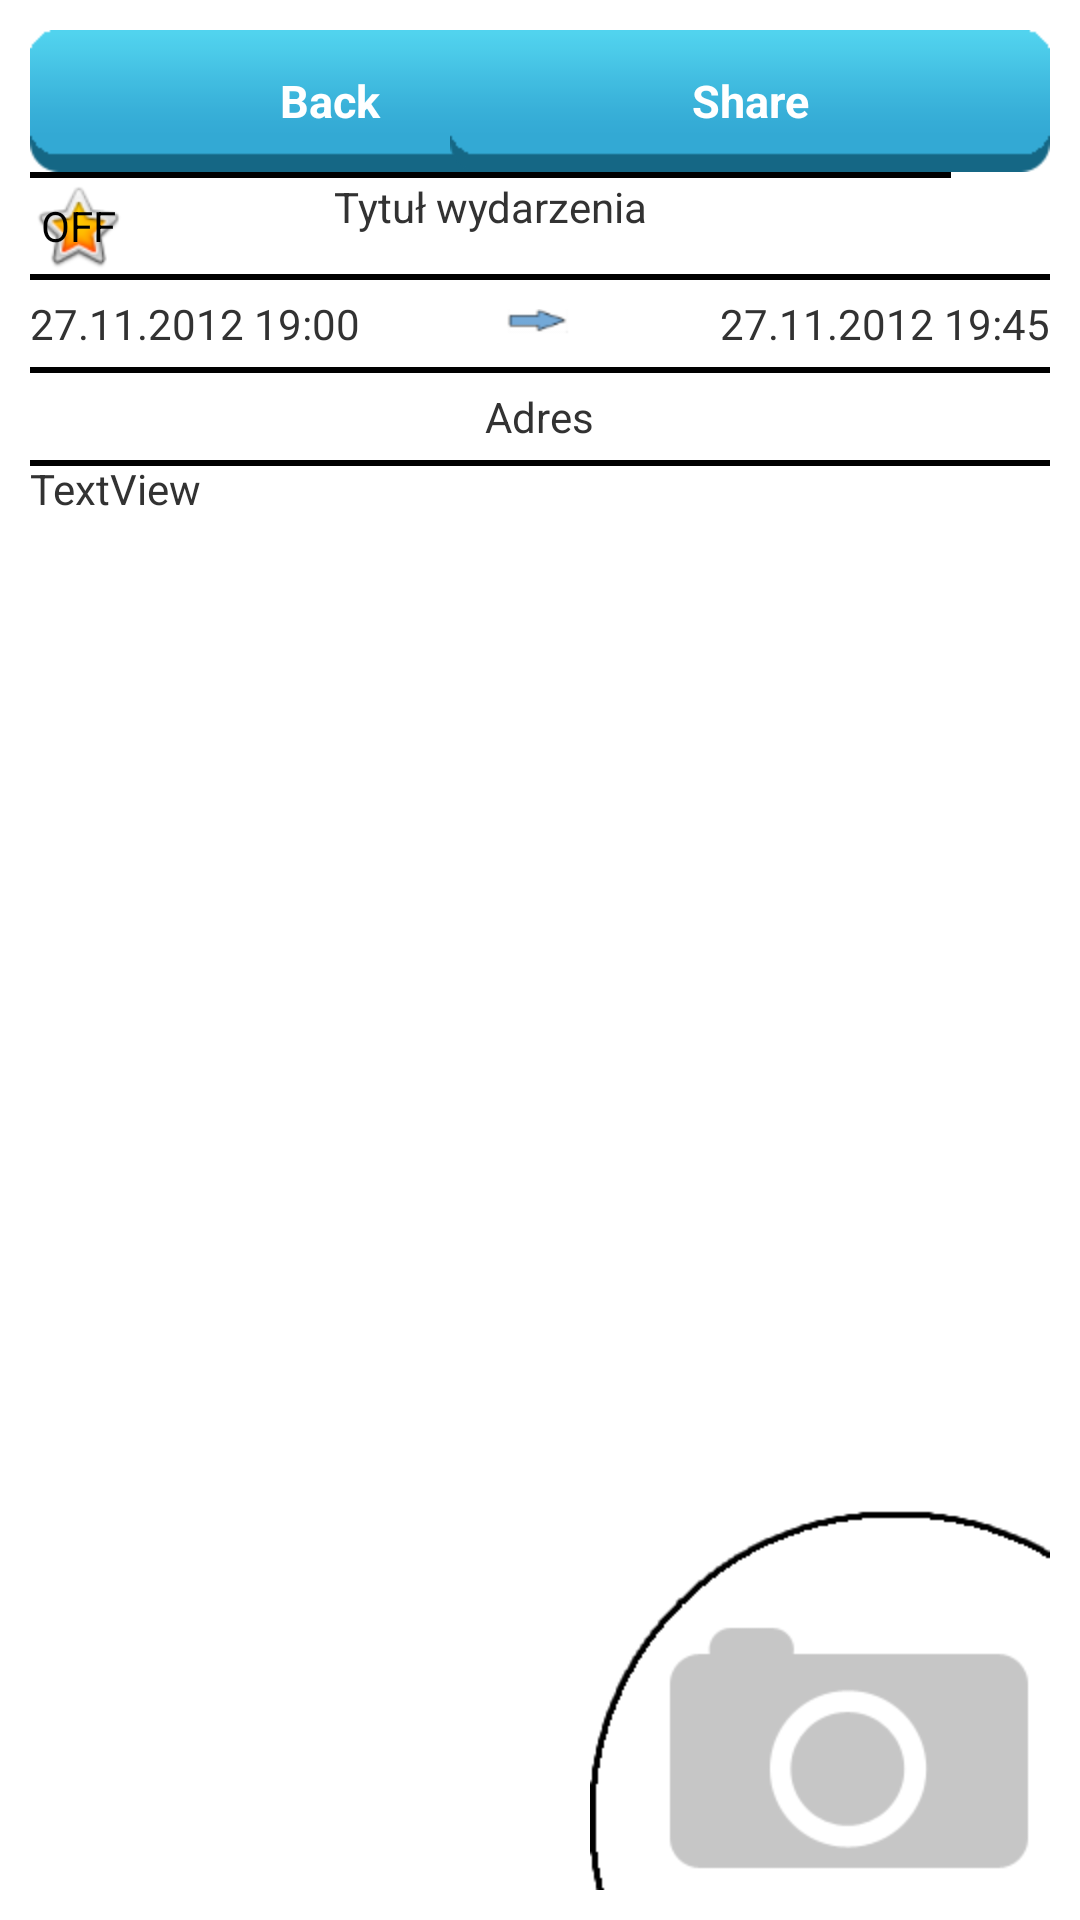

Where to tap for icons on this 1080×1920 app screen, as point (x, y):
arrow date: point (537, 320)
